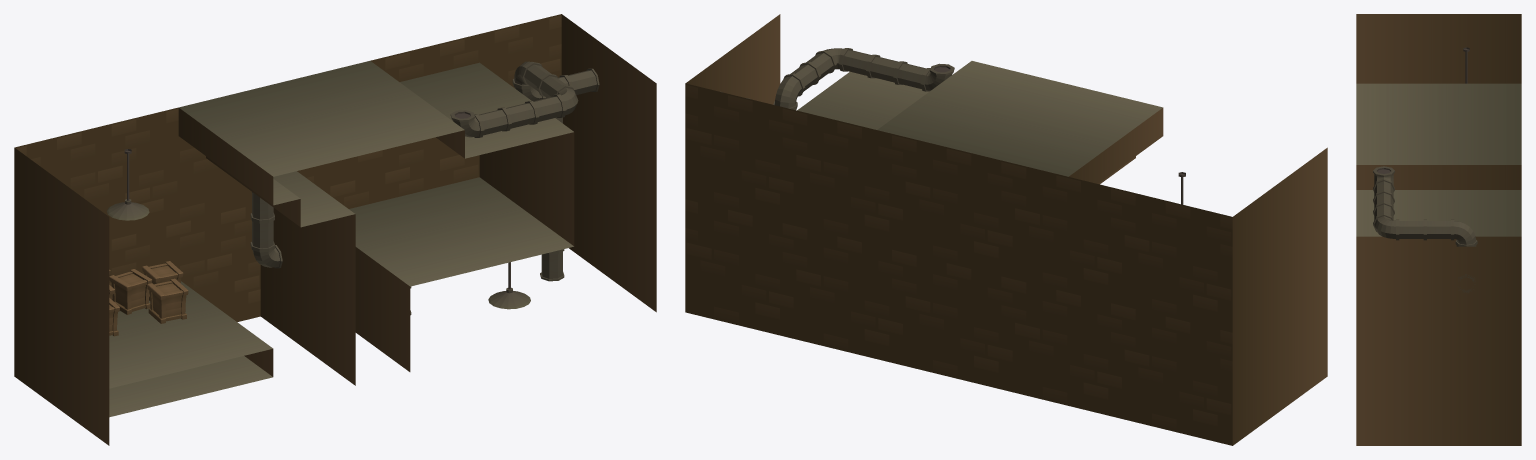
The model's file is Room22_8x20.fbx.
3 views of the same model, side by side, from view 1: azimuth 30°, elevation 25°; view 2: azimuth 150°, elevation 25°; view 3: azimuth 270°, elevation 25° (orthographic). The views are drawn at different scales.
Parts seen in each view (by area): view 1: Room22_8x20; view 2: Room22_8x20; view 3: Room22_8x20.
Part boxes in pixels (x1,y1,x2,y2): Room22_8x20: (14,14,656,445); Room22_8x20: (685,14,1327,445); Room22_8x20: (1356,14,1521,445).
Size of the model in its own units: 2000 by 600 by 800.
